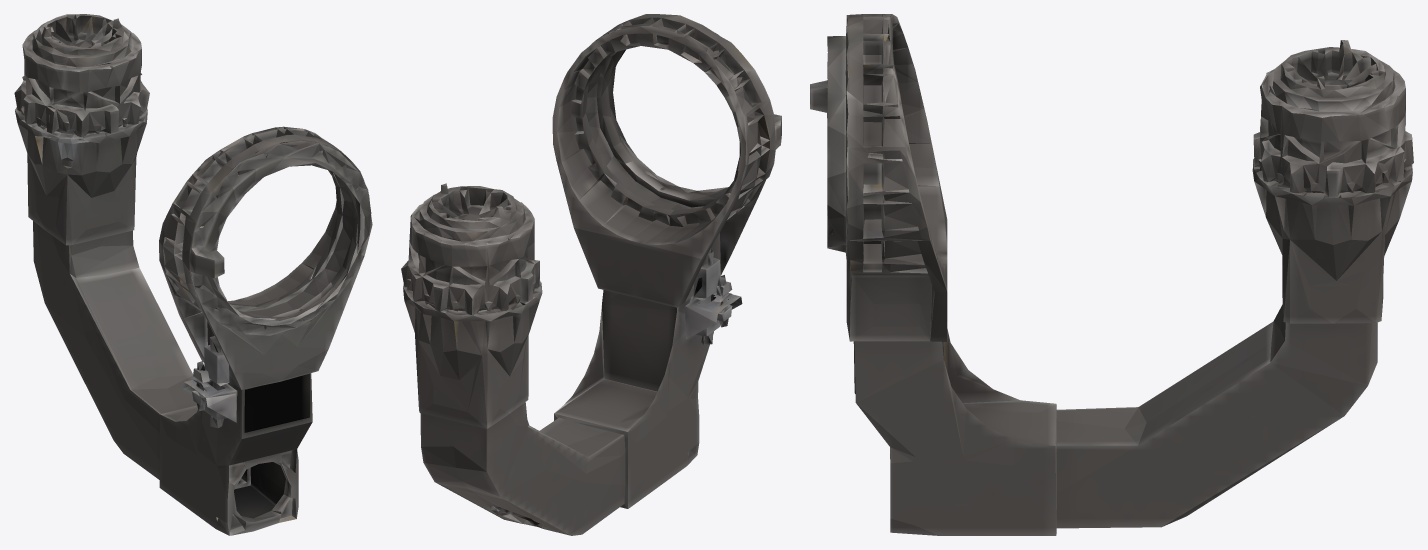
File: steer_lr.obj
The picture shows the model from 3 angles, left to right: view 1: azimuth 30°, elevation 25°; view 2: azimuth 150°, elevation 25°; view 3: azimuth 270°, elevation 25°; orthographic projection. The views are drawn at different scales.
Bounding box in the file's own units: 0.2089 × 0.4329 × 0.4854.
Materials: 1 (1 with a texture image).
